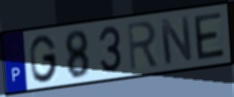3: (97, 23, 123, 75)
8: (63, 28, 91, 80)
E: (192, 10, 226, 62)
G: (28, 33, 59, 85)
N: (158, 15, 195, 67)
R: (125, 19, 160, 73)
